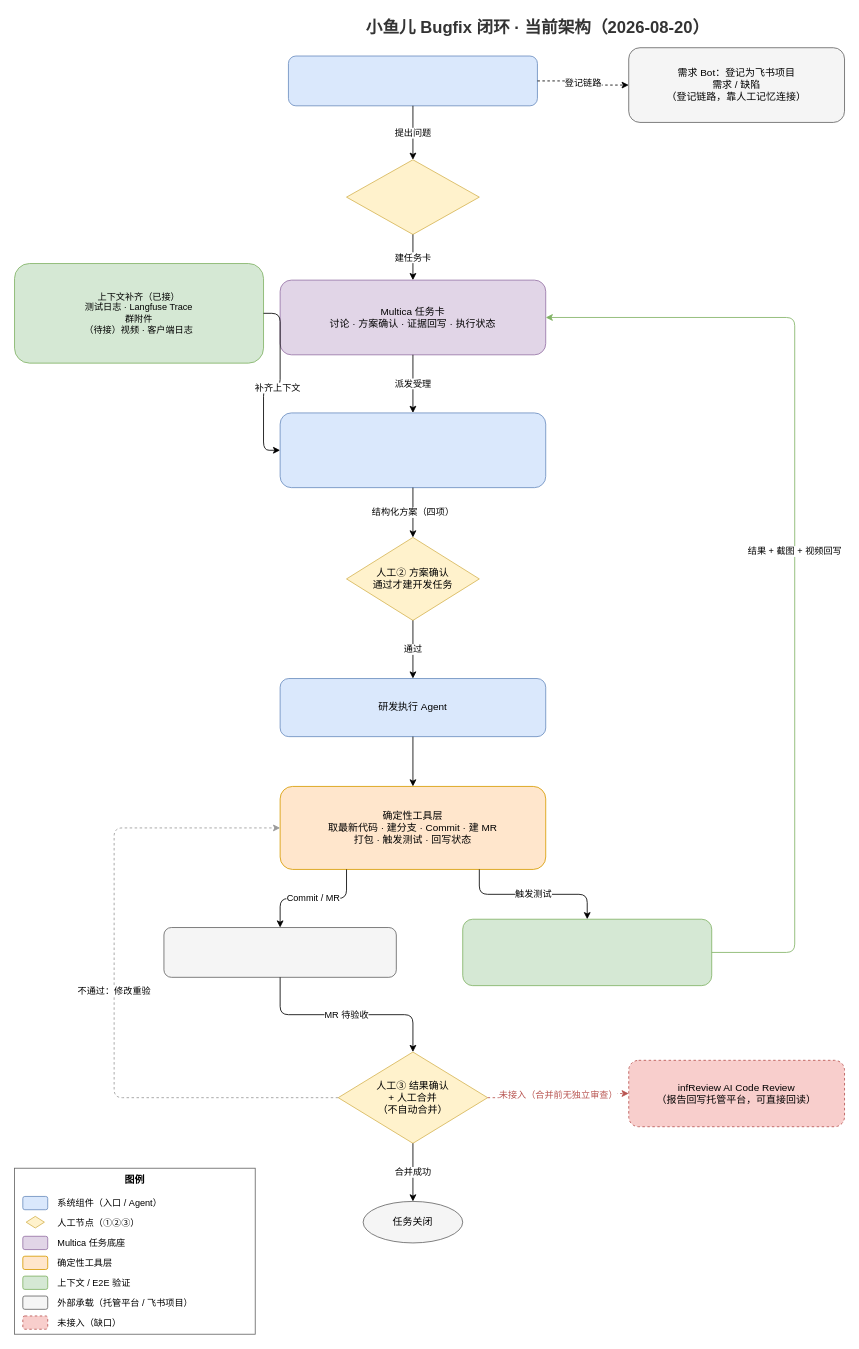
This 859x1349 diagram has some shape labels left out. The centre of each missing label's shape, as x and y in pixels:
"E2E 测试服务（自建） 预定义脚本 → 结果 + 截图 + 视频" goes at (587,952).
"人工① 建卡" goes at (412,196).
"代码托管平台 分支 + MR" goes at (279,952).
"受理与方案处理 Agent 聚合信息 · 澄清四项 · 意图路由" goes at (412,450).
"飞书反馈群 / 话题群 问题描述 · 截图 · 现象" goes at (412,80).
